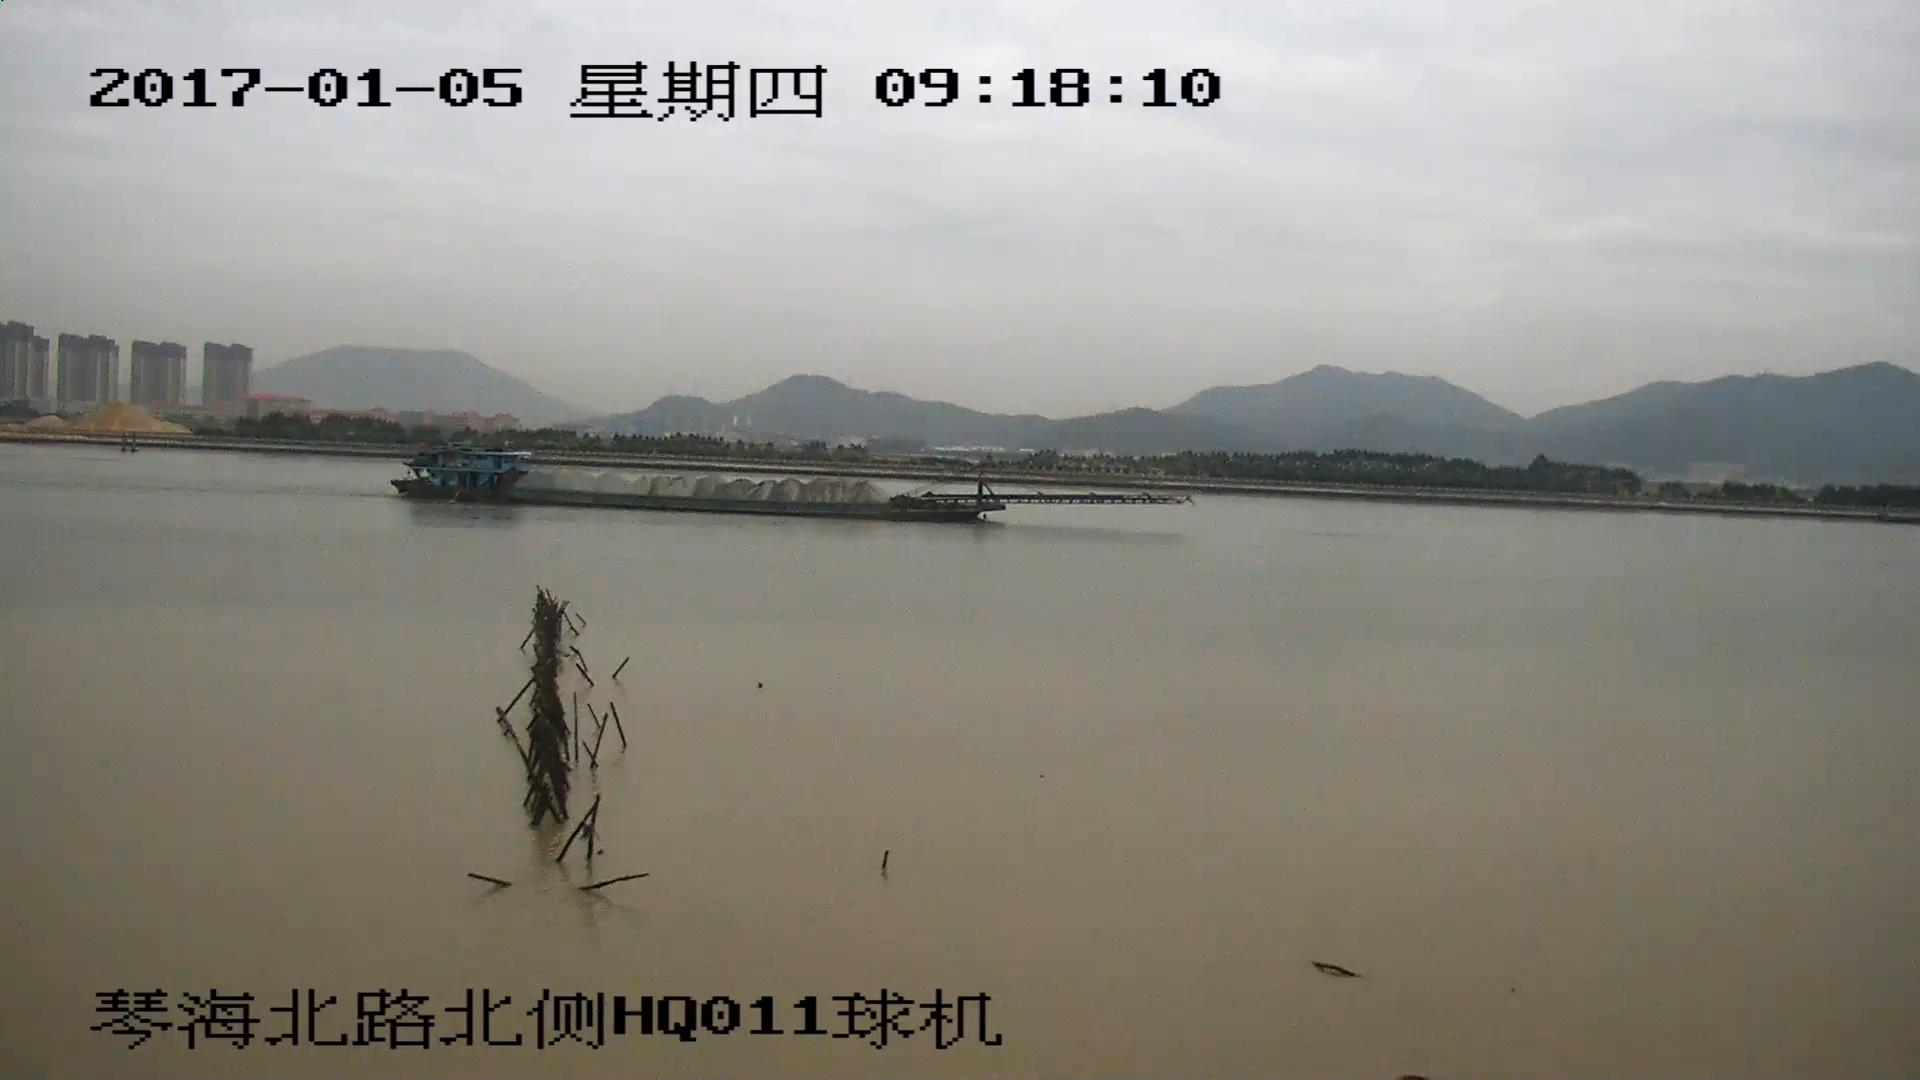ore carrier: (392, 448, 1176, 524)
